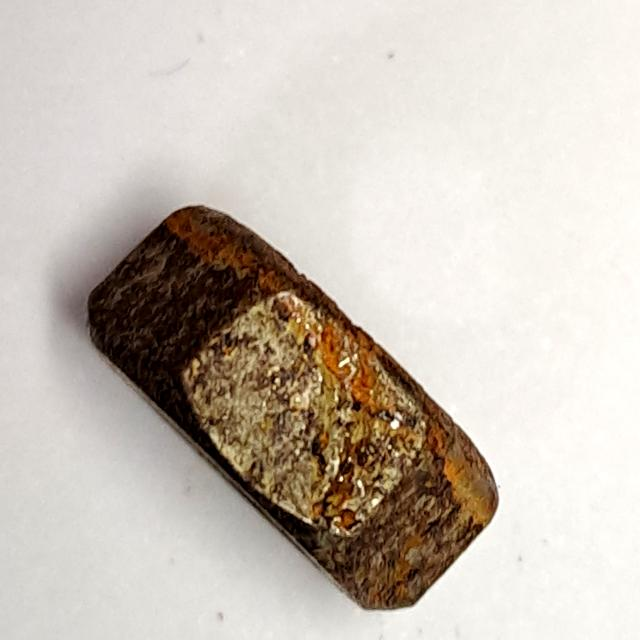Side_Rust: (72, 196, 511, 620)
